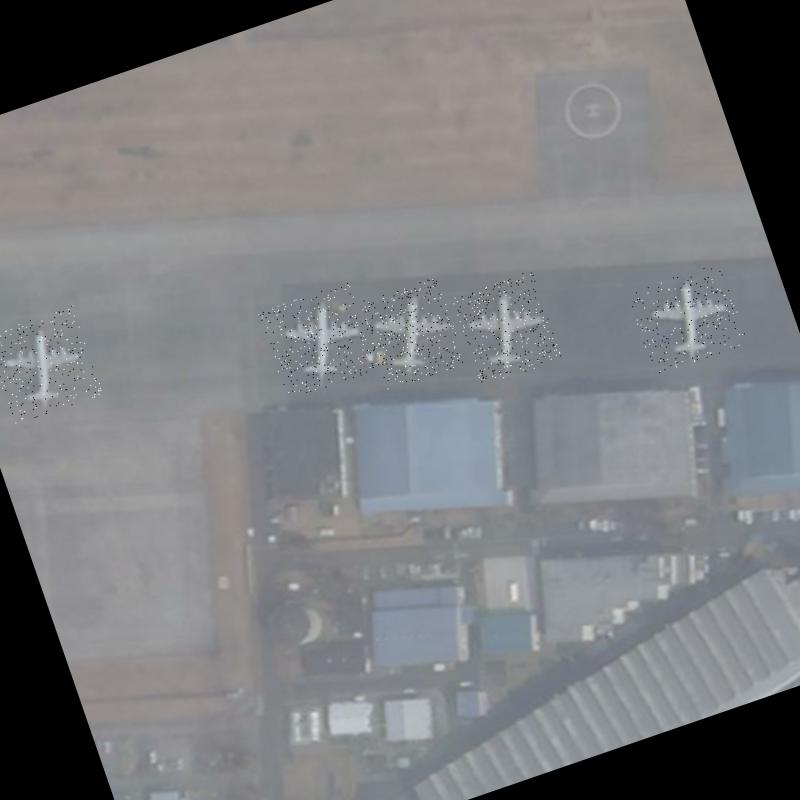A9: (258, 282, 379, 400), (626, 262, 748, 376), (452, 270, 562, 387), (357, 276, 467, 390), (0, 305, 104, 425)
